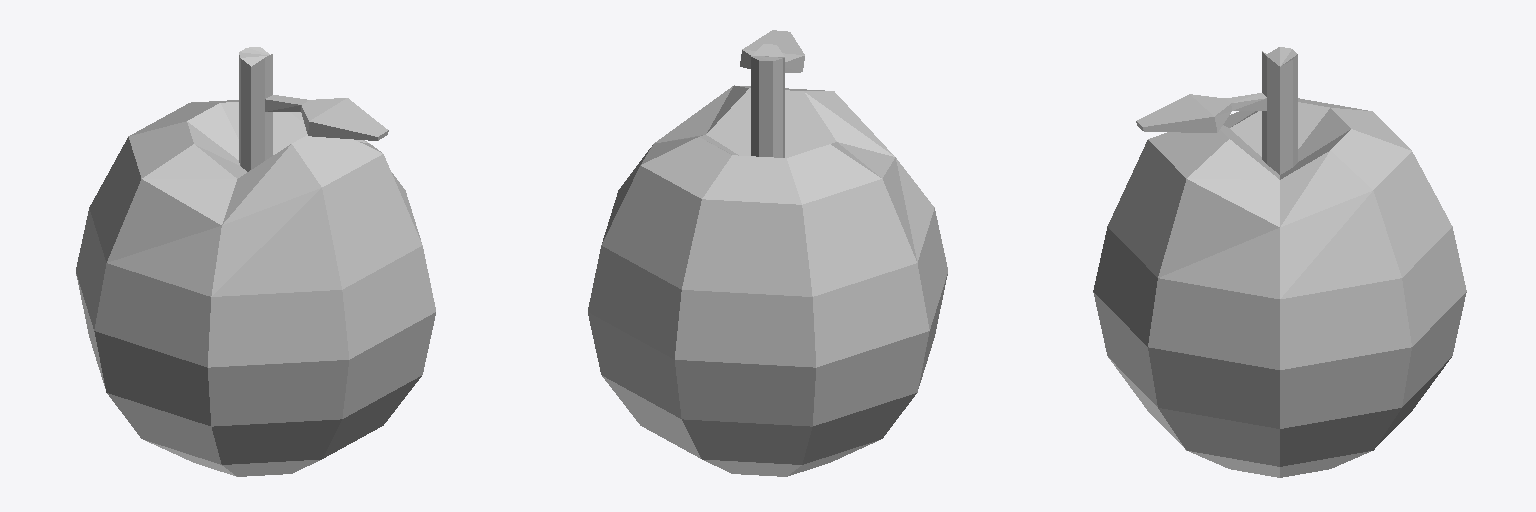
Rendered from Apple.obj.
3 views of the same model, side by side, from view 1: azimuth 30°, elevation 25°; view 2: azimuth 150°, elevation 25°; view 3: azimuth 270°, elevation 25° (orthographic).
Parts seen in each view (by area): view 1: pSphere4; view 2: pSphere4; view 3: pSphere4.
Part boxes in pixels (left/top/right/bottom): pSphere4: left=76, top=47, right=435, bottom=476; pSphere4: left=588, top=30, right=947, bottom=476; pSphere4: left=1093, top=47, right=1466, bottom=477.
Size of the model in its own units: 2.43 by 2.94 by 2.43.